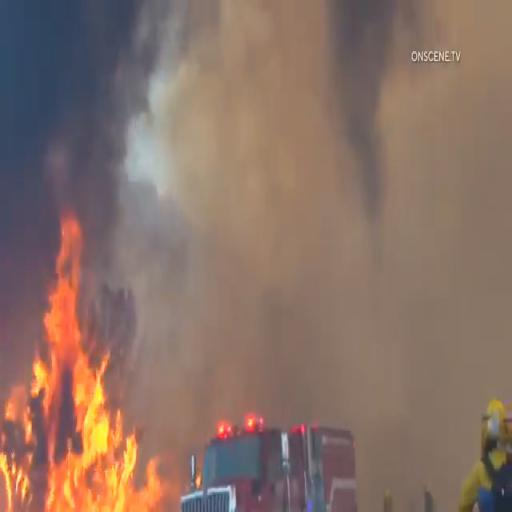fire: (0, 208, 174, 512)
smoke: (1, 0, 402, 203)
